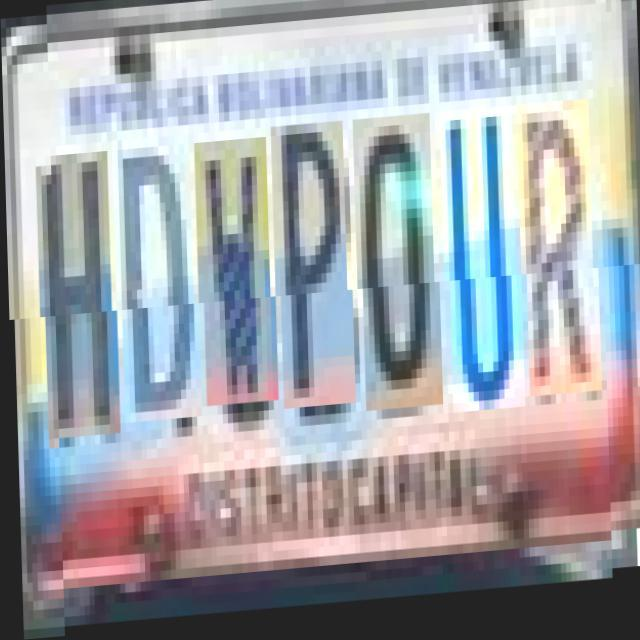D: (116, 137, 200, 426)
H: (40, 153, 118, 440)
O: (356, 120, 441, 418)
P: (275, 127, 353, 414)
R: (521, 110, 599, 406)
U: (443, 114, 522, 420)
W: (198, 142, 276, 410)
